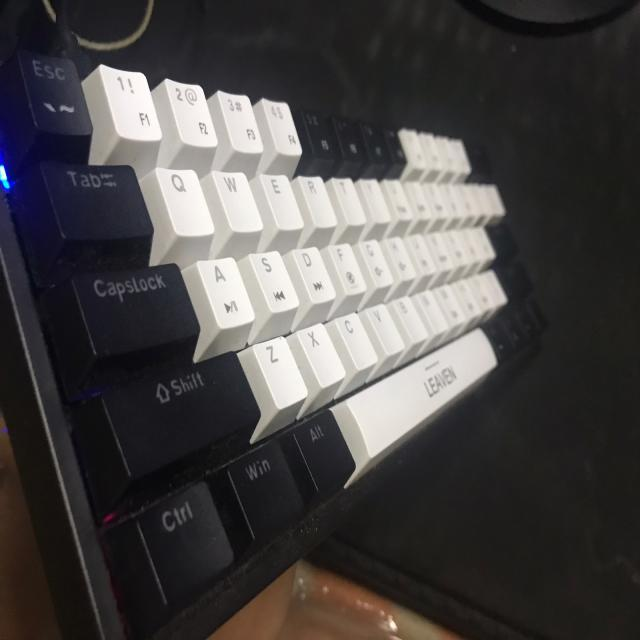-mouse-: (0, 51, 551, 640)
